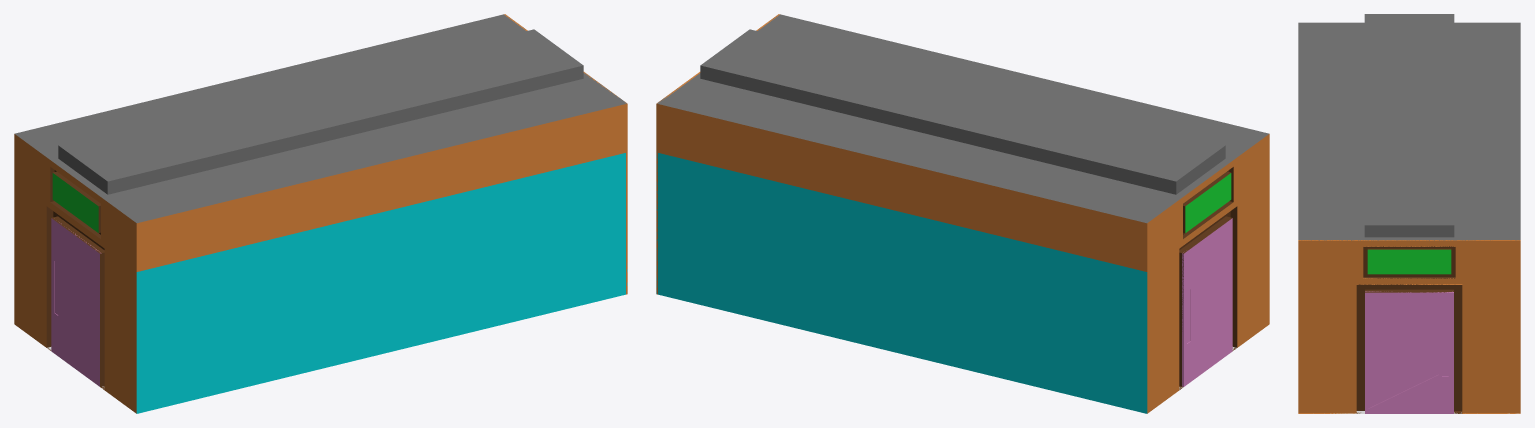
Rendered from Lobby.fbx.
The picture shows the model from 3 angles, left to right: view 1: azimuth 30°, elevation 25°; view 2: azimuth 150°, elevation 25°; view 3: azimuth 270°, elevation 25°; orthographic projection. The views are drawn at different scales.
Parts seen in each view (by area): view 1: Cube, Cube.003; view 2: Cube, Cube.003; view 3: Cube, Cube.002.
Boxes of the visible parts, x1,y1,x2,y2 form: Cube: (14,14,627,413); Cube.003: (51,218,101,386); Cube: (656,14,1269,413); Cube.003: (1182,218,1232,386); Cube: (1298,14,1520,413); Cube.002: (1365,291,1453,413).
Size of the model in its own units: 1017 by 404 by 439.
